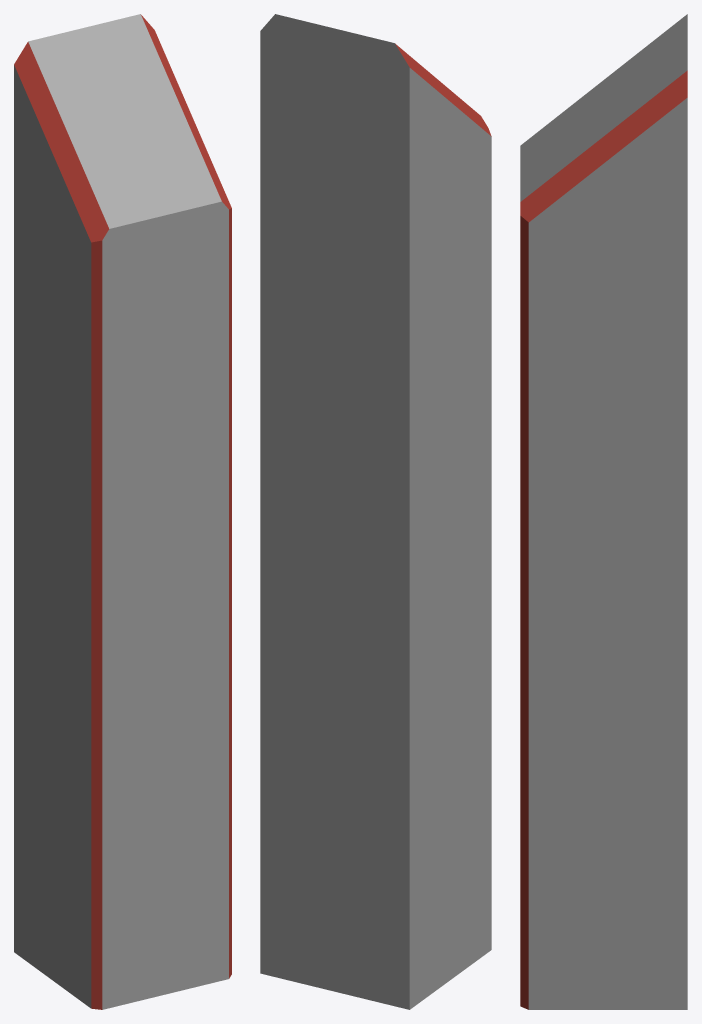
Rendered from PillarTester.fbx.
3 views of the same model, side by side, from view 1: azimuth 30°, elevation 25°; view 2: azimuth 150°, elevation 25°; view 3: azimuth 270°, elevation 25° (orthographic). The views are drawn at different scales.
Parts seen in each view (by area): view 1: pCube10; view 2: pCube10; view 3: pCube10.
Boxes of the visible parts, x1,y1,x2,y2 form: pCube10: (14,14,231,1009); pCube10: (260,14,491,1009); pCube10: (520,14,687,1009).
Size of the model in its own units: 2000 by 12319 by 2000.
